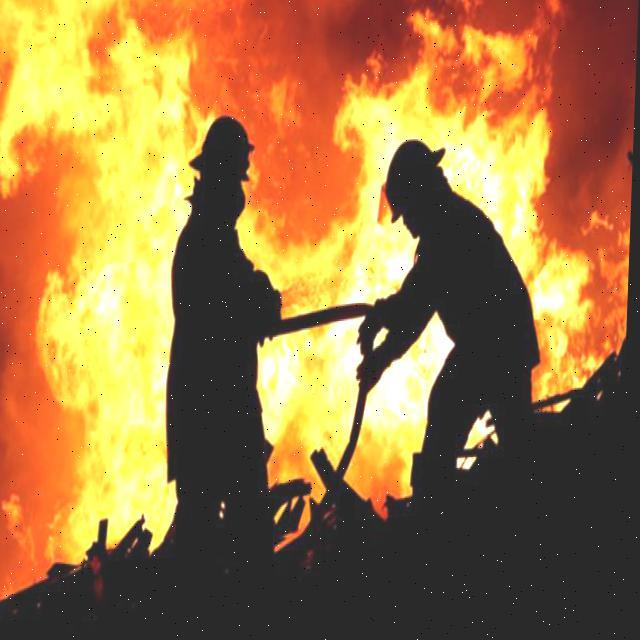Fire: (0, 0, 639, 553)
